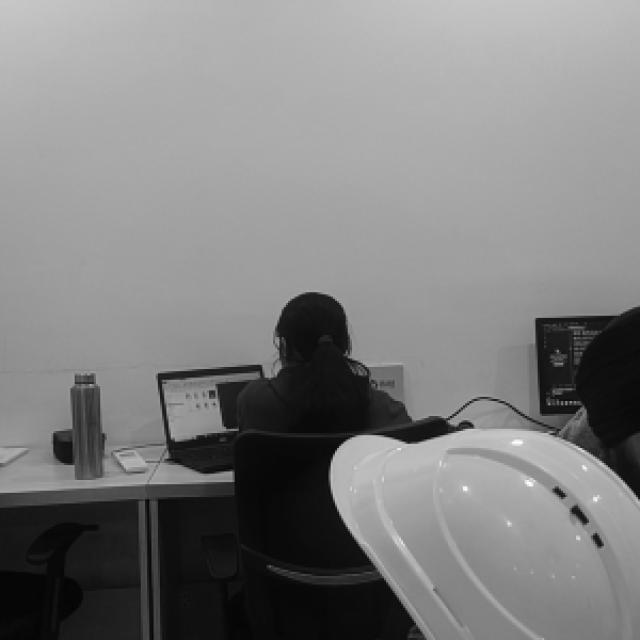safety_helmet: (328, 429, 640, 640)
